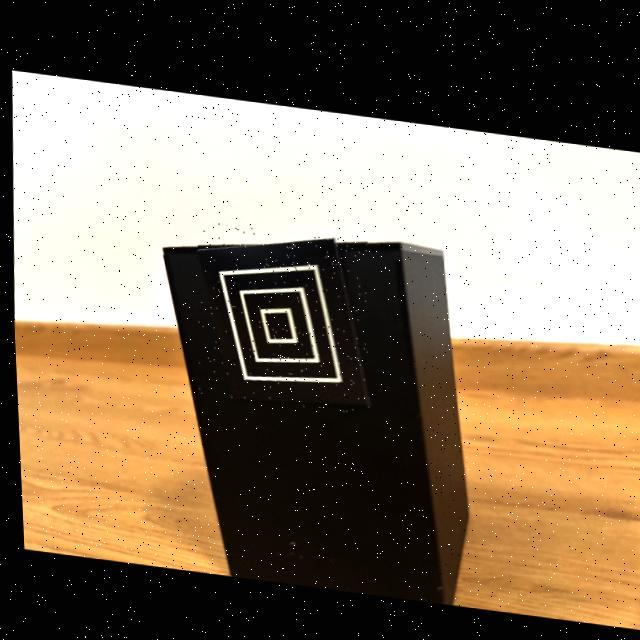BULLSEYE: (196, 231, 365, 401)
